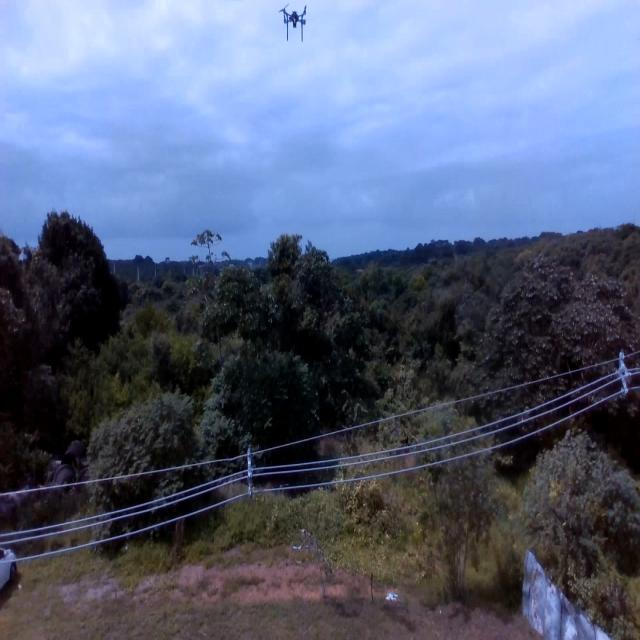-uav-: (274, 3, 318, 43)
